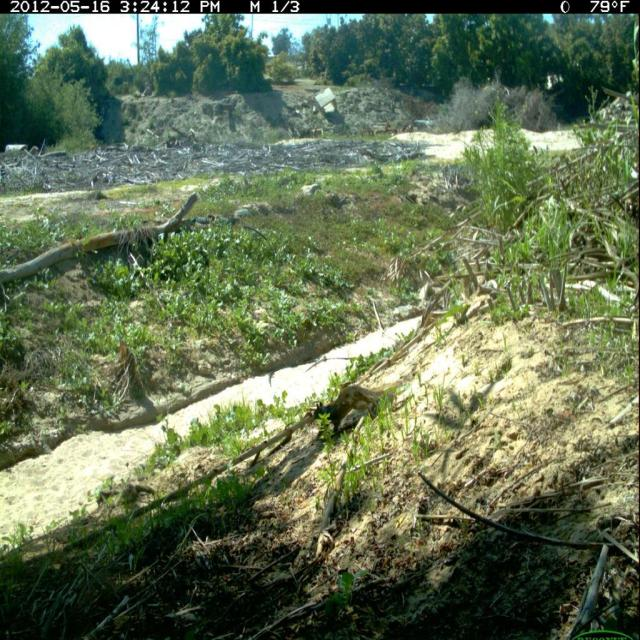squirrel: (307, 379, 393, 446)
